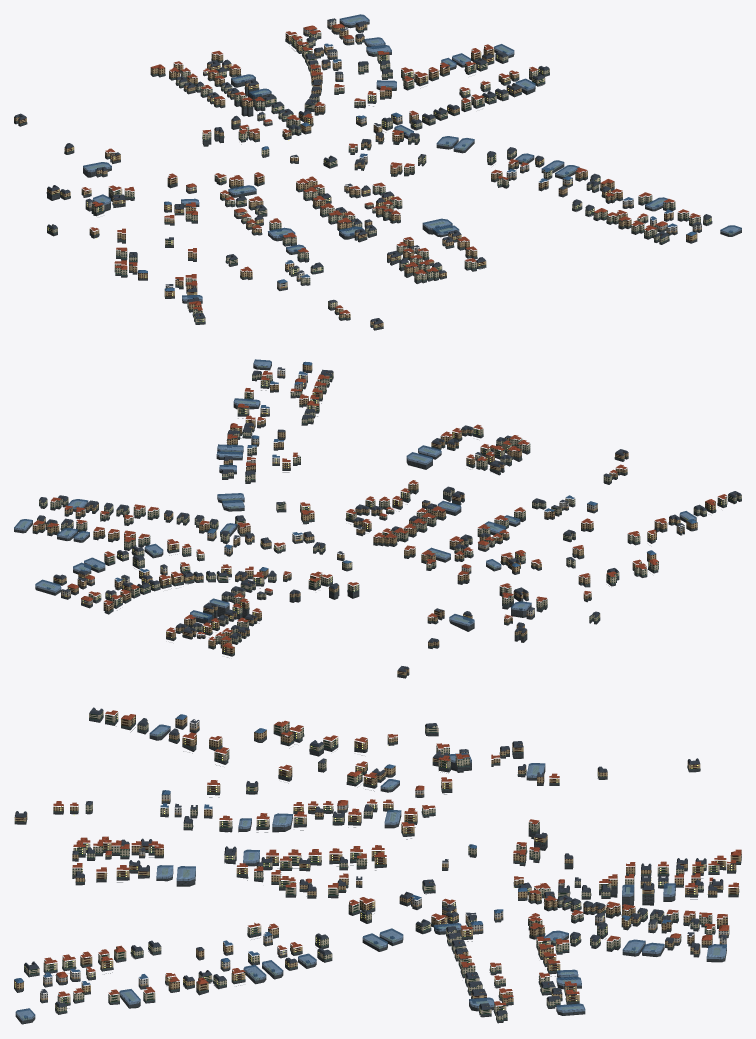
The model's file is osm_buildings_T_E00_N02_Q4.glb.
3 renders of one model, top to bottom at view 1: azimuth 30°, elevation 25°; view 2: azimuth 150°, elevation 25°; view 3: azimuth 270°, elevation 25°, orthographic. The views are drawn at different scales.
Visible parts, largest first — view 1: OSM_T_E00_N02_Q4_foundation, OSM_T_E00_N02_Q4_wall_french_ochre, OSM_T_E00_N02_Q4_wall_cream_stucco, OSM_T_E00_N02_Q4_roof_terracotta, OSM_T_E00_N02_Q4_greenhouse_blend, OSM_T_E00_N02_Q4_roof_mansard_slate, OSM_T_E00_N02_Q4_roof_mansard_deck, OSM_T_E00_N02_Q4_roof_mint_metal, OSM_T_E00_N02_Q4_trim_cornice, OSM_T_E00_N02_Q4_wall_warm_white, OSM_T_E00_N02_Q4_balcony_railing, OSM_T_E00_N02_Q4_window_emissive_warm (+2 smaller); view 2: OSM_T_E00_N02_Q4_foundation, OSM_T_E00_N02_Q4_wall_french_ochre, OSM_T_E00_N02_Q4_wall_cream_stucco, OSM_T_E00_N02_Q4_roof_terracotta, OSM_T_E00_N02_Q4_greenhouse_blend, OSM_T_E00_N02_Q4_roof_mansard_slate, OSM_T_E00_N02_Q4_roof_mansard_deck, OSM_T_E00_N02_Q4_roof_mint_metal, OSM_T_E00_N02_Q4_trim_cornice, OSM_T_E00_N02_Q4_balcony_railing, OSM_T_E00_N02_Q4_wall_warm_white, OSM_T_E00_N02_Q4_window_emissive_warm (+1 smaller); view 3: OSM_T_E00_N02_Q4_foundation, OSM_T_E00_N02_Q4_wall_french_ochre, OSM_T_E00_N02_Q4_wall_cream_stucco, OSM_T_E00_N02_Q4_roof_terracotta, OSM_T_E00_N02_Q4_greenhouse_blend, OSM_T_E00_N02_Q4_roof_mansard_slate, OSM_T_E00_N02_Q4_roof_mansard_deck, OSM_T_E00_N02_Q4_roof_mint_metal, OSM_T_E00_N02_Q4_balcony_railing, OSM_T_E00_N02_Q4_trim_cornice, OSM_T_E00_N02_Q4_window_emissive_warm, OSM_T_E00_N02_Q4_wall_warm_white (+2 smaller).
Part boxes in pixels (left/top/right/bottom): OSM_T_E00_N02_Q4_foundation: left=14, top=21, right=741, bottom=330; OSM_T_E00_N02_Q4_wall_french_ochre: left=14, top=24, right=697, bottom=327; OSM_T_E00_N02_Q4_wall_cream_stucco: left=47, top=32, right=711, bottom=322; OSM_T_E00_N02_Q4_roof_terracotta: left=82, top=23, right=700, bottom=315; OSM_T_E00_N02_Q4_greenhouse_blend: left=83, top=14, right=741, bottom=301; OSM_T_E00_N02_Q4_roof_mansard_slate: left=14, top=18, right=711, bottom=324; OSM_T_E00_N02_Q4_roof_mansard_deck: left=16, top=19, right=740, bottom=322; OSM_T_E00_N02_Q4_roof_mint_metal: left=14, top=27, right=711, bottom=328; OSM_T_E00_N02_Q4_trim_cornice: left=15, top=19, right=699, bottom=324; OSM_T_E00_N02_Q4_wall_warm_white: left=85, top=19, right=656, bottom=288; OSM_T_E00_N02_Q4_balcony_railing: left=48, top=37, right=711, bottom=326; OSM_T_E00_N02_Q4_window_emissive_warm: left=48, top=18, right=734, bottom=327; OSM_T_E00_N02_Q4_foundation: left=14, top=363, right=741, bottom=678; OSM_T_E00_N02_Q4_wall_french_ochre: left=32, top=364, right=715, bottom=675; OSM_T_E00_N02_Q4_wall_cream_stucco: left=37, top=372, right=741, bottom=642; OSM_T_E00_N02_Q4_roof_terracotta: left=33, top=371, right=735, bottom=648; OSM_T_E00_N02_Q4_greenhouse_blend: left=14, top=359, right=696, bottom=626; OSM_T_E00_N02_Q4_roof_mansard_slate: left=37, top=367, right=741, bottom=671; OSM_T_E00_N02_Q4_roof_mansard_deck: left=15, top=365, right=740, bottom=669; OSM_T_E00_N02_Q4_roof_mint_metal: left=34, top=376, right=741, bottom=675; OSM_T_E00_N02_Q4_trim_cornice: left=34, top=364, right=739, bottom=673; OSM_T_E00_N02_Q4_balcony_railing: left=35, top=375, right=721, bottom=651; OSM_T_E00_N02_Q4_wall_warm_white: left=61, top=383, right=597, bottom=616; OSM_T_E00_N02_Q4_window_emissive_warm: left=20, top=366, right=721, bottom=651; OSM_T_E00_N02_Q4_foundation: left=14, top=715, right=741, bottom=1024; OSM_T_E00_N02_Q4_wall_french_ochre: left=14, top=715, right=741, bottom=1003; OSM_T_E00_N02_Q4_wall_cream_stucco: left=24, top=710, right=719, bottom=1020; OSM_T_E00_N02_Q4_roof_terracotta: left=44, top=710, right=741, bottom=1006; OSM_T_E00_N02_Q4_greenhouse_blend: left=15, top=724, right=726, bottom=1020; OSM_T_E00_N02_Q4_roof_mansard_slate: left=15, top=708, right=726, bottom=1015; OSM_T_E00_N02_Q4_roof_mansard_deck: left=16, top=707, right=723, bottom=1020; OSM_T_E00_N02_Q4_roof_mint_metal: left=15, top=715, right=740, bottom=1020; OSM_T_E00_N02_Q4_balcony_railing: left=24, top=715, right=741, bottom=1016; OSM_T_E00_N02_Q4_trim_cornice: left=15, top=713, right=738, bottom=1018; OSM_T_E00_N02_Q4_window_emissive_warm: left=15, top=718, right=731, bottom=1019; OSM_T_E00_N02_Q4_wall_warm_white: left=70, top=750, right=729, bottom=986.
Size of the model in its own units: 978 by 53.57 by 995.
Materials: 16 (16 with a texture image).
